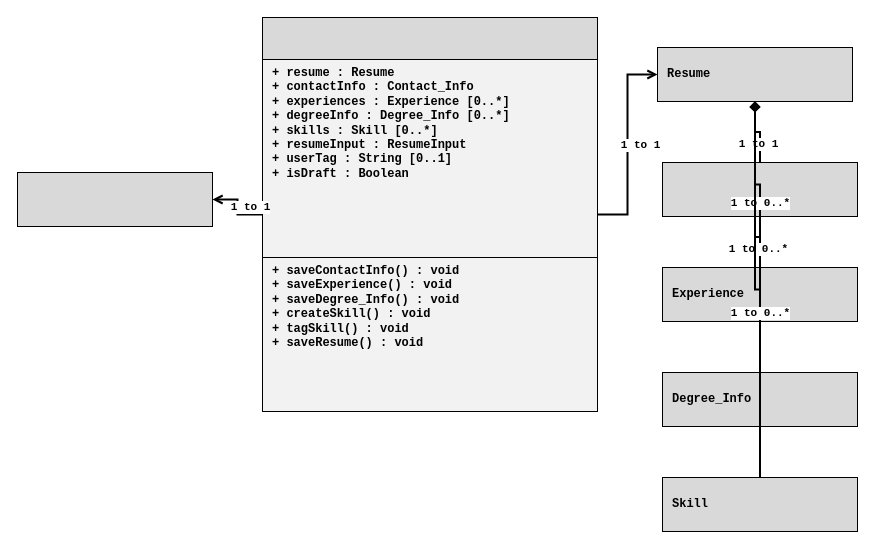
Image size: 875x549. Some labels were removed from this diagram. Each missing label, with the box of its shape:
Contact_Info: (662, 162, 858, 216)
ResumeInput: (16, 172, 212, 226)
UpdateResumeRequest: (262, 16, 598, 60)
